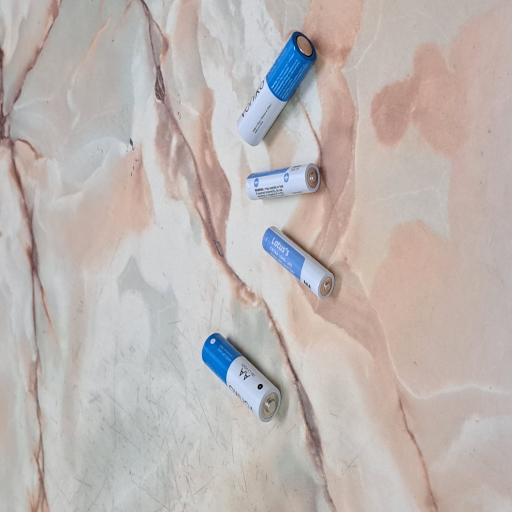battery: (272, 313, 362, 423), (66, 268, 137, 377), (160, 346, 216, 451), (232, 327, 264, 429)
